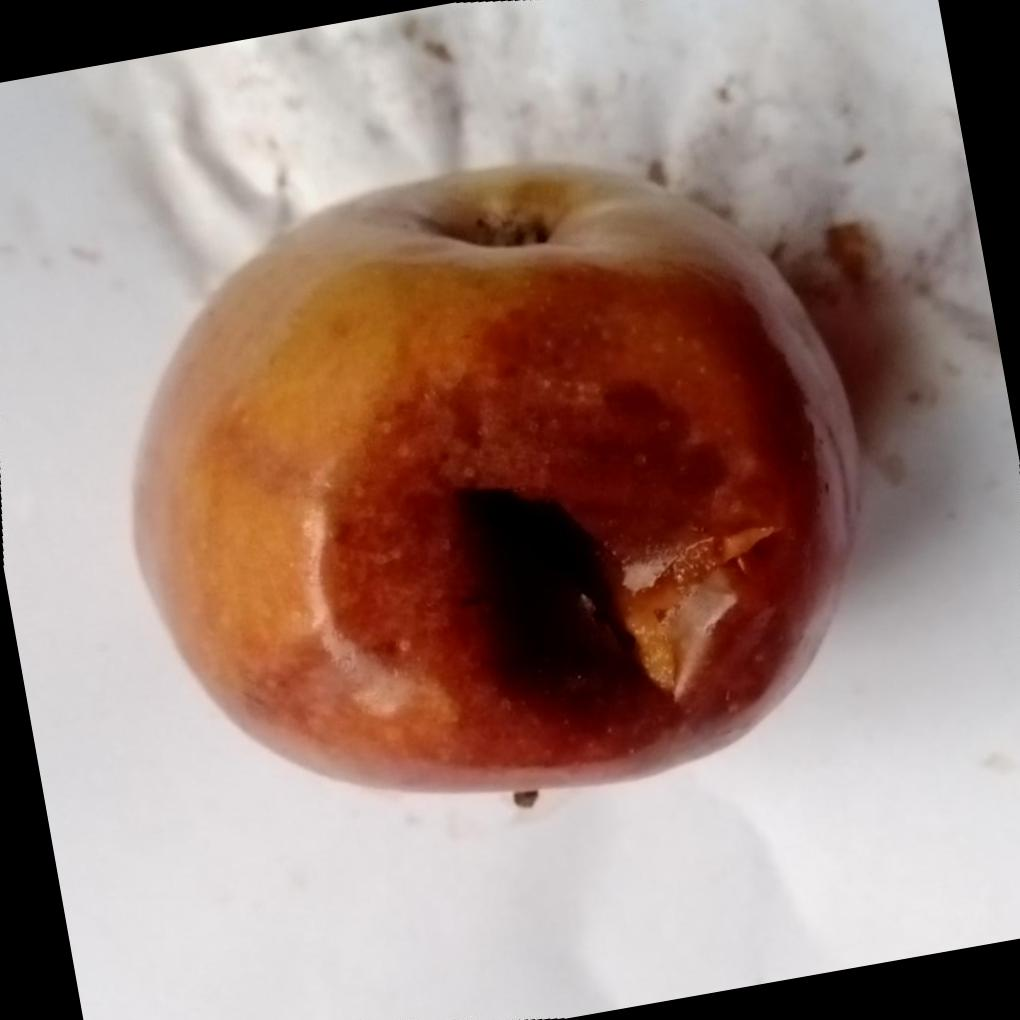FreshOrange: (124, 158, 863, 798)
